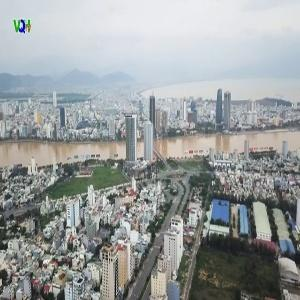drone: (47, 157, 85, 195)
